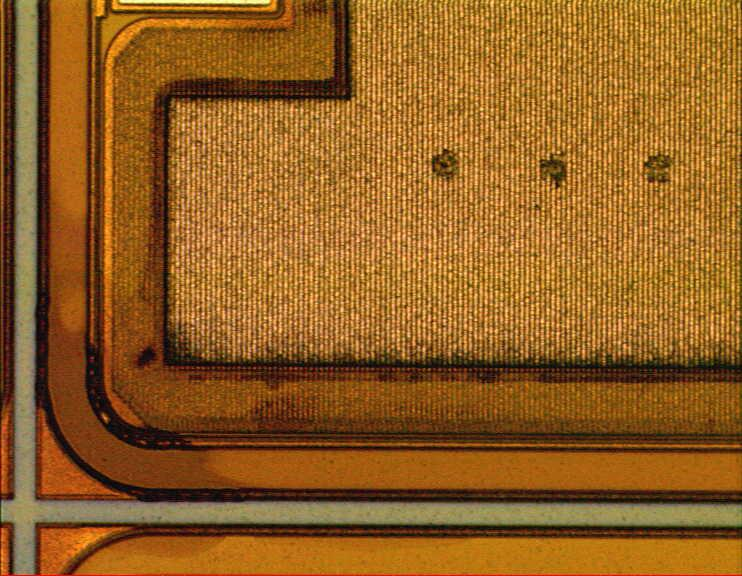SEZ BURNT: (27, 1, 742, 562)
